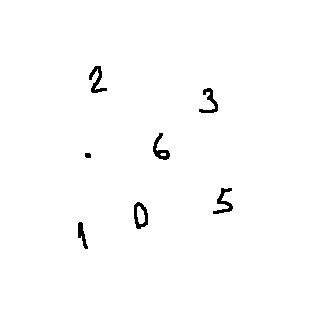.: (76, 147, 98, 164)
0: (127, 185, 159, 245)
1: (66, 214, 102, 260)
2: (80, 59, 119, 103)
3: (188, 81, 222, 127)
5: (208, 181, 250, 228)
6: (147, 130, 181, 166)
